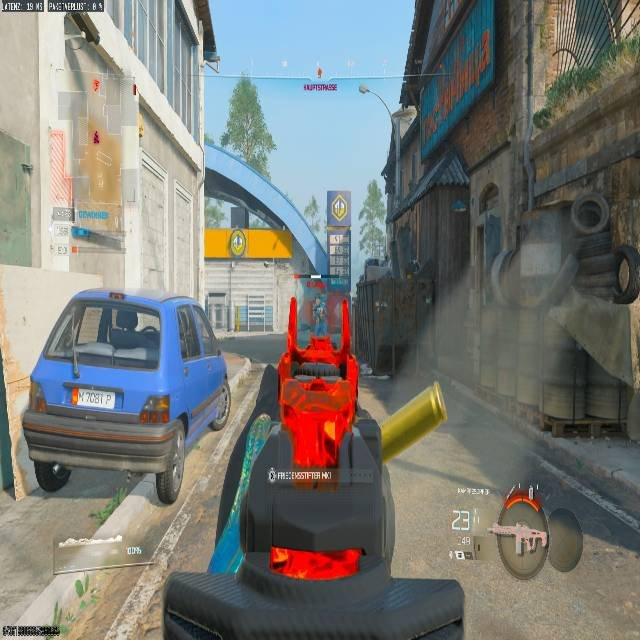player: (307, 290, 327, 347)
